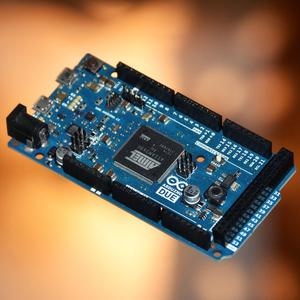duino: (7, 38, 295, 260)
